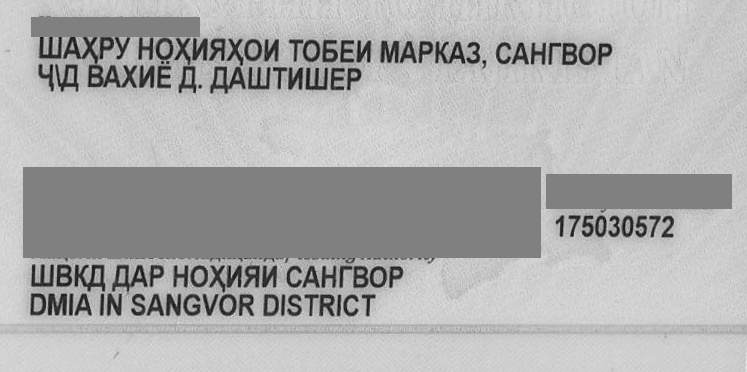0: (591, 211, 611, 239), (618, 211, 638, 239)
1: (553, 211, 569, 239)
2: (659, 211, 679, 239)
3: (607, 211, 625, 239)
5: (578, 211, 598, 239), (633, 211, 651, 239)
7: (564, 211, 584, 239), (645, 211, 665, 239)
Ё: (155, 54, 179, 96)
А: (513, 35, 537, 73), (104, 53, 124, 95), (229, 55, 249, 97), (63, 30, 83, 68), (401, 34, 421, 72), (447, 34, 467, 72), (128, 257, 146, 297), (303, 256, 321, 296)
Б: (319, 33, 339, 71)
В: (50, 257, 72, 297), (563, 35, 585, 73), (351, 256, 367, 296), (90, 53, 104, 95)
Г: (550, 35, 568, 73), (339, 256, 355, 296)
Д: (179, 54, 205, 96), (86, 257, 112, 297), (63, 53, 87, 95), (211, 55, 231, 97), (112, 257, 130, 297)
Е: (326, 56, 348, 98), (339, 33, 357, 71)
З: (468, 34, 484, 72)
И: (258, 256, 284, 296), (263, 32, 287, 70), (355, 33, 379, 71), (221, 256, 241, 296), (187, 31, 207, 69), (138, 54, 156, 96), (288, 56, 304, 98)
К: (70, 257, 88, 297), (434, 34, 450, 72)
М: (383, 33, 399, 71)
Н: (532, 35, 554, 73), (318, 256, 338, 296), (173, 257, 189, 297), (141, 31, 155, 69)
О: (580, 36, 604, 74), (187, 257, 207, 297), (366, 255, 386, 295), (154, 31, 174, 69), (242, 32, 262, 70), (304, 32, 320, 70)
Р: (144, 257, 172, 297), (385, 255, 409, 295), (346, 56, 368, 98), (599, 36, 619, 74), (98, 30, 116, 68), (418, 34, 434, 72)
С: (497, 35, 519, 73), (286, 256, 304, 296)
Т: (272, 55, 292, 97), (290, 32, 308, 70)
У: (114, 30, 138, 68)
Х: (121, 54, 139, 96)
Ч: (40, 53, 56, 95)
Ш: (243, 55, 267, 97), (302, 56, 324, 98), (40, 30, 60, 68), (32, 258, 50, 298)
Я: (240, 256, 260, 296), (209, 31, 229, 69)
Ҳ: (206, 256, 224, 296), (80, 30, 98, 68), (172, 31, 190, 69), (225, 32, 243, 70)
